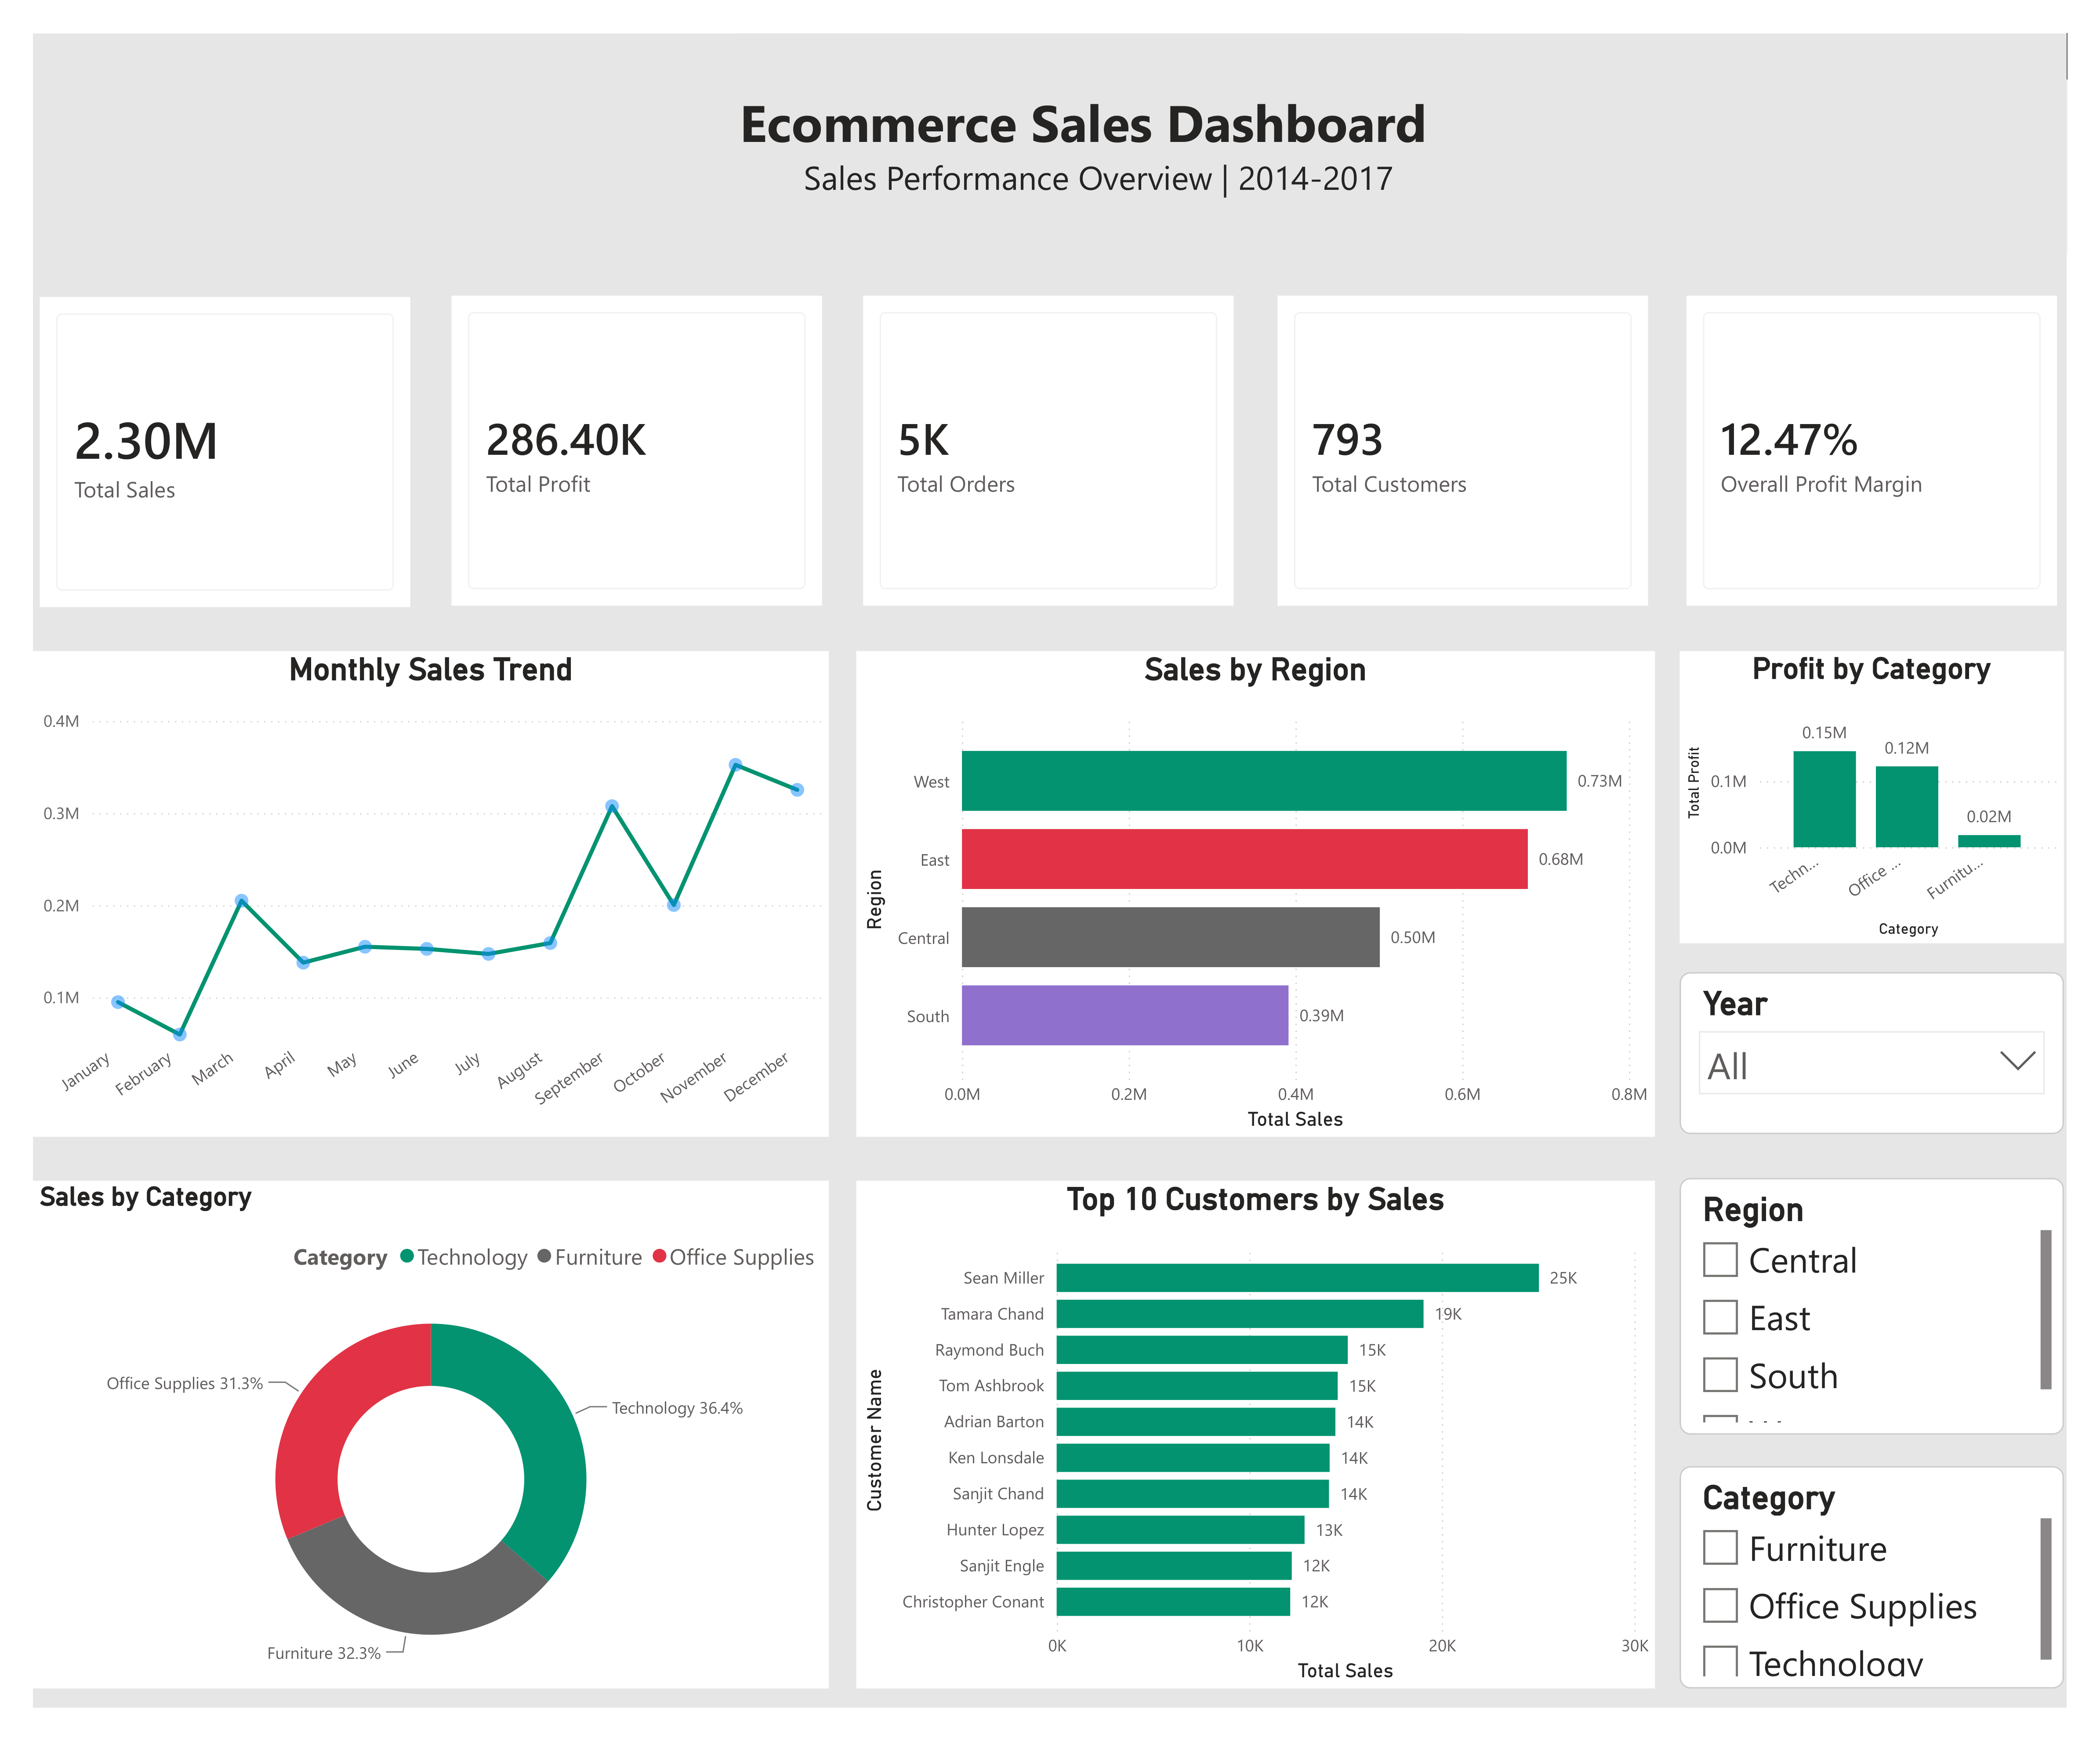

This screenshot's page, from the dashboard's own definition file:
{"tool":"powerbi","page":{"name":"Page 1","canvas":[1830,1800],"ordinal":0},"visuals":[{"type":"cardVisual","fields":{"Data":["superstore_cleaned.Total Sales"]},"box":[34,188,280,280],"z":0},{"type":"cardVisual","fields":{"Data":["superstore_cleaned.Total Profit"]},"box":[404.5,188,280,280],"z":1},{"type":"cardVisual","fields":{"Data":["superstore_cleaned.Total Orders"]},"box":[775,188,280,280],"z":2},{"type":"cardVisual","fields":{"Data":["superstore_cleaned.Total Customers"]},"box":[1145.5,188,280,280],"z":3},{"type":"cardVisual","fields":{"Data":["superstore_cleaned.Overall Profit Margin"]},"box":[1516,188,280,280],"z":4},{"type":"lineChart","title":"Monthly Sales Trend","fields":{"Y":["superstore_cleaned.Total Sales"],"Category":["superstore_cleaned.Month Name"]},"box":[34,518,644,352],"z":5},{"type":"donutChart","title":"Sales by Category","fields":{"Category":["superstore_cleaned.Category"],"Y":["superstore_cleaned.Total Sales"]},"box":[1068,500,707,369],"z":6},{"type":"clusteredBarChart","title":"Sales by Region","fields":{"Category":["superstore_cleaned.Region"],"Y":["superstore_cleaned.Total Sales"]},"box":[34,962,707,369],"z":7},{"type":"clusteredColumnChart","title":"Profit by Category","fields":{"Category":["superstore_cleaned.Category"],"Y":["superstore_cleaned.Total Profit"]},"box":[1028,1060,707,171],"z":8},{"type":"clusteredBarChart","title":"Top 10 Customers by Sales","fields":{"Category":["superstore_cleaned.Customer Name"],"Y":["superstore_cleaned.Total Sales"]},"box":[34,1400,707,369],"z":9},{"type":"slicer","fields":{"Values":["superstore_cleaned.Year"]},"box":[888,1490,280,280],"z":10},{"type":"slicer","fields":{"Values":["superstore_cleaned.Region"]},"box":[1216,1490,280,280],"z":11},{"type":"slicer","fields":{"Values":["superstore_cleaned.Category"]},"box":[1534,1490,276,280],"z":12},{"type":"textbox","box":[684,0,532,188],"z":13}]}

Visuals, with their boxes on the page's 1830x1800 design canvas (x1, y1, x2, y2). These are canvas units, not pixel positions in the 2100x1741 screenshot, which may show the page scaled, cropped or inside an application window:
cardVisual - superstore_cleaned.Total Sales: [34, 188, 314, 468]
cardVisual - superstore_cleaned.Total Profit: [404, 188, 684, 468]
cardVisual - superstore_cleaned.Total Orders: [775, 188, 1055, 468]
cardVisual - superstore_cleaned.Total Customers: [1146, 188, 1426, 468]
cardVisual - superstore_cleaned.Overall Profit Margin: [1516, 188, 1796, 468]
"Monthly Sales Trend" lineChart: [34, 518, 678, 870]
"Sales by Category" donutChart: [1068, 500, 1775, 869]
"Sales by Region" clusteredBarChart: [34, 962, 741, 1331]
"Profit by Category" clusteredColumnChart: [1028, 1060, 1735, 1231]
"Top 10 Customers by Sales" clusteredBarChart: [34, 1400, 741, 1769]
slicer - superstore_cleaned.Year: [888, 1490, 1168, 1770]
slicer - superstore_cleaned.Region: [1216, 1490, 1496, 1770]
slicer - superstore_cleaned.Category: [1534, 1490, 1810, 1770]
textbox: [684, 0, 1216, 188]
